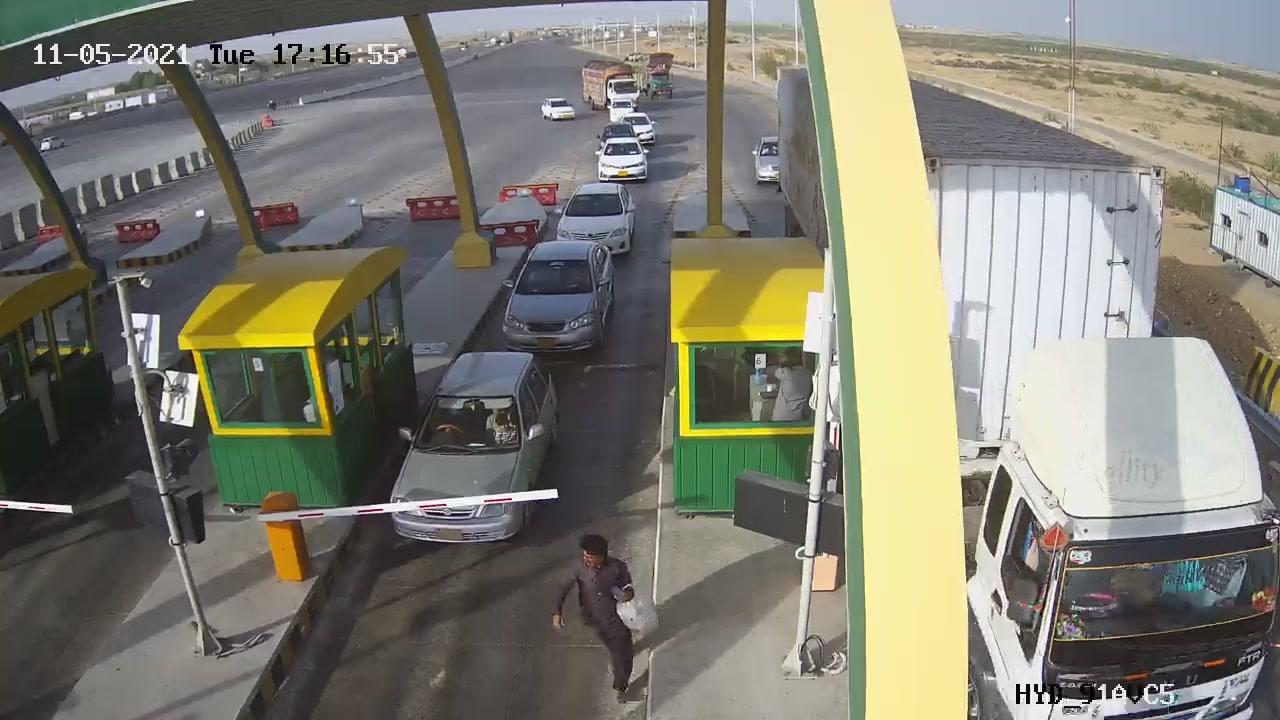F1: (372, 339, 573, 553), (486, 229, 637, 366), (543, 177, 650, 265)
